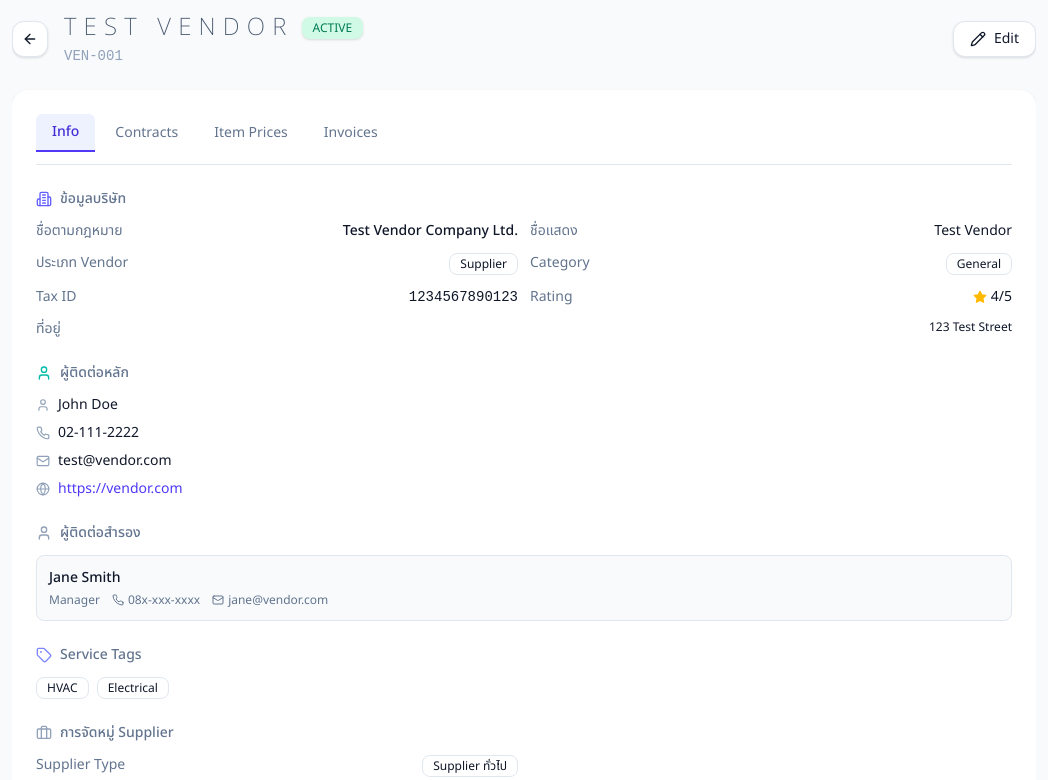
Scenario: VendorDetailPage › switches to Invoices tab
What coordinates should you click on to do the following:
click the button "Invoices"
I would click on:
 (351, 133)
Its box is [308,114,394,152].
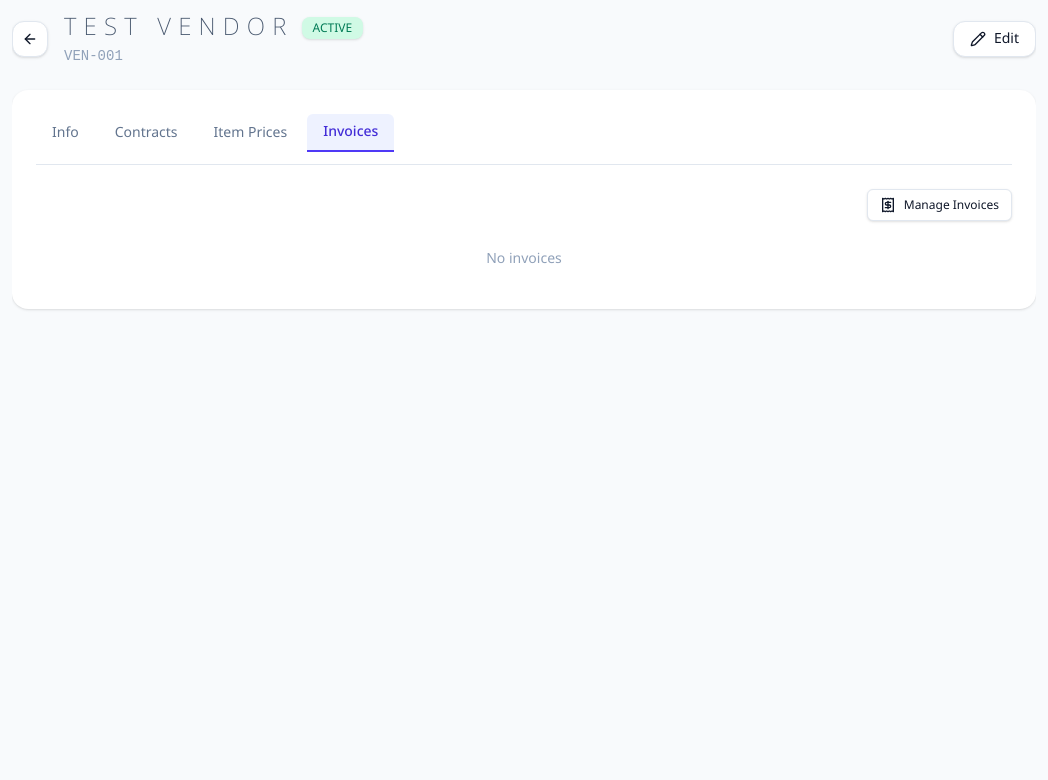
Expected: the text "No invoices" is shown, [486,248,562,269]
